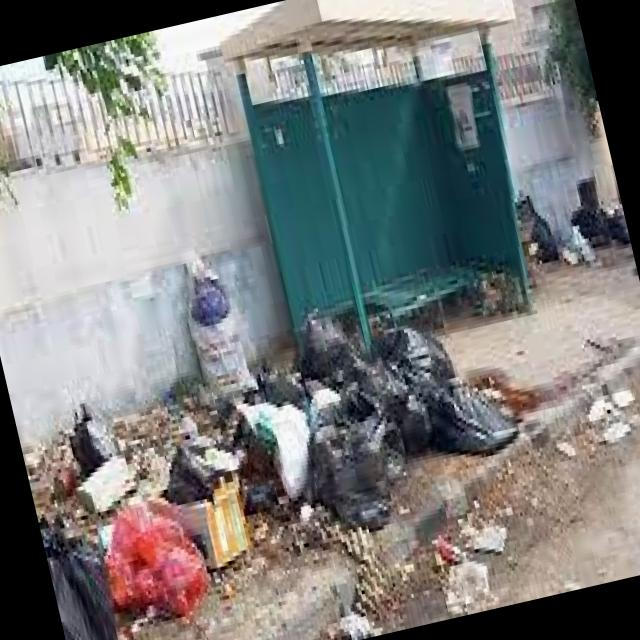garbage: (0, 233, 554, 640)
